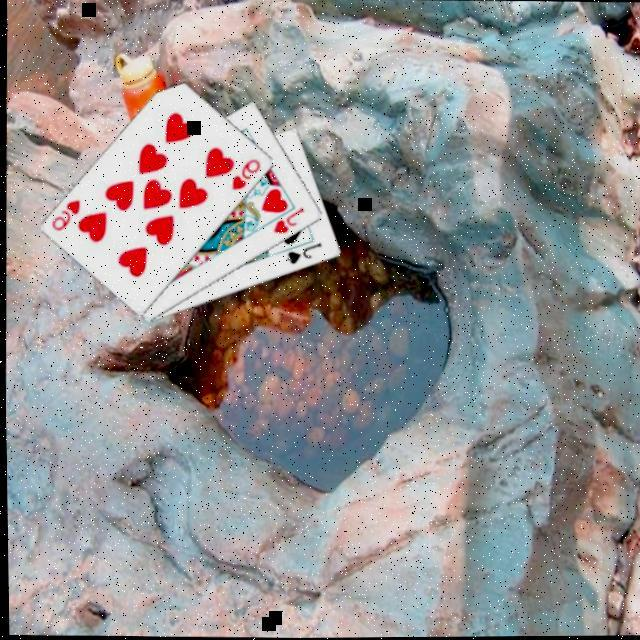9H: (228, 152, 264, 192), (48, 194, 84, 231)
JH: (270, 202, 307, 235)
JS: (283, 237, 324, 266)
